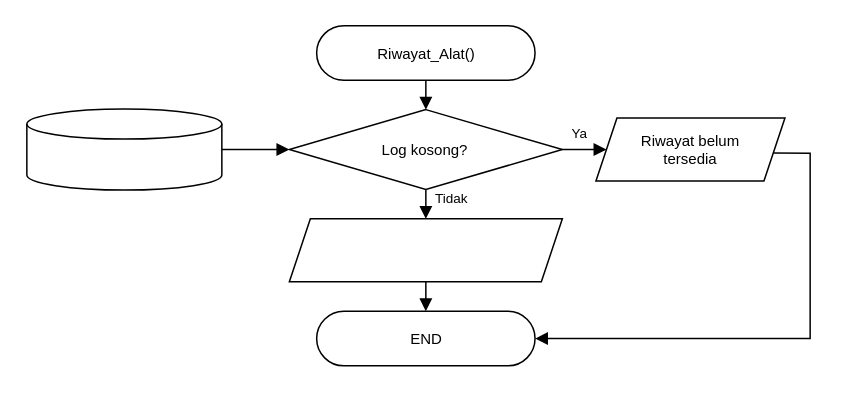
Some shapes in this 849 by 393 pixel diagram are drawn without their labels. The box of each missing label's shape, as (x1, y1, x2, y2) in pixels:
log_riwayat: (25, 108, 222, 190)
Tampilkan riwayat perubahan stok dan kondisi alat: (288, 217, 562, 282)
